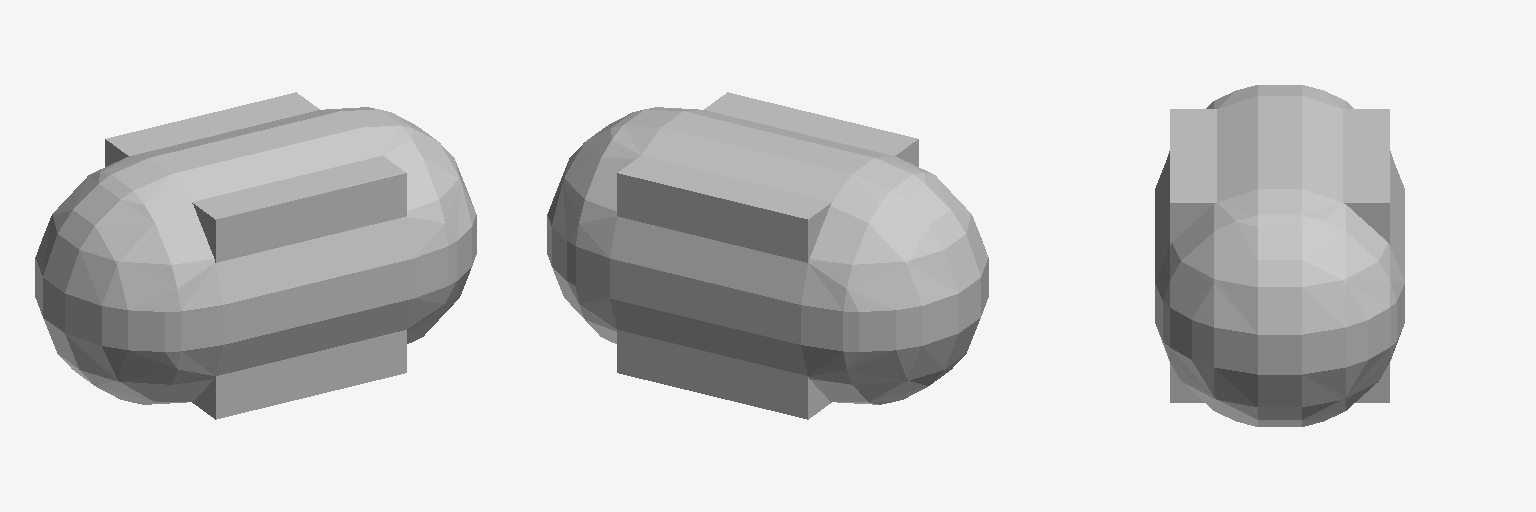
3 views of the same model, side by side, from view 1: azimuth 30°, elevation 25°; view 2: azimuth 150°, elevation 25°; view 3: azimuth 270°, elevation 25° (orthographic).
Visible parts, largest first — view 1: 融球, Cube; view 2: 融球, Cube; view 3: 融球, Cube.
Boxes of the visible parts, <box> form: 融球: <box>35,107,476,404</box>; Cube: <box>105,92,406,419</box>; 融球: <box>547,107,988,404</box>; Cube: <box>617,92,918,419</box>; 融球: <box>1155,85,1404,426</box>; Cube: <box>1170,109,1389,402</box>.
Bounding box in the file's own units: 4.23 × 2.27 × 2.27.